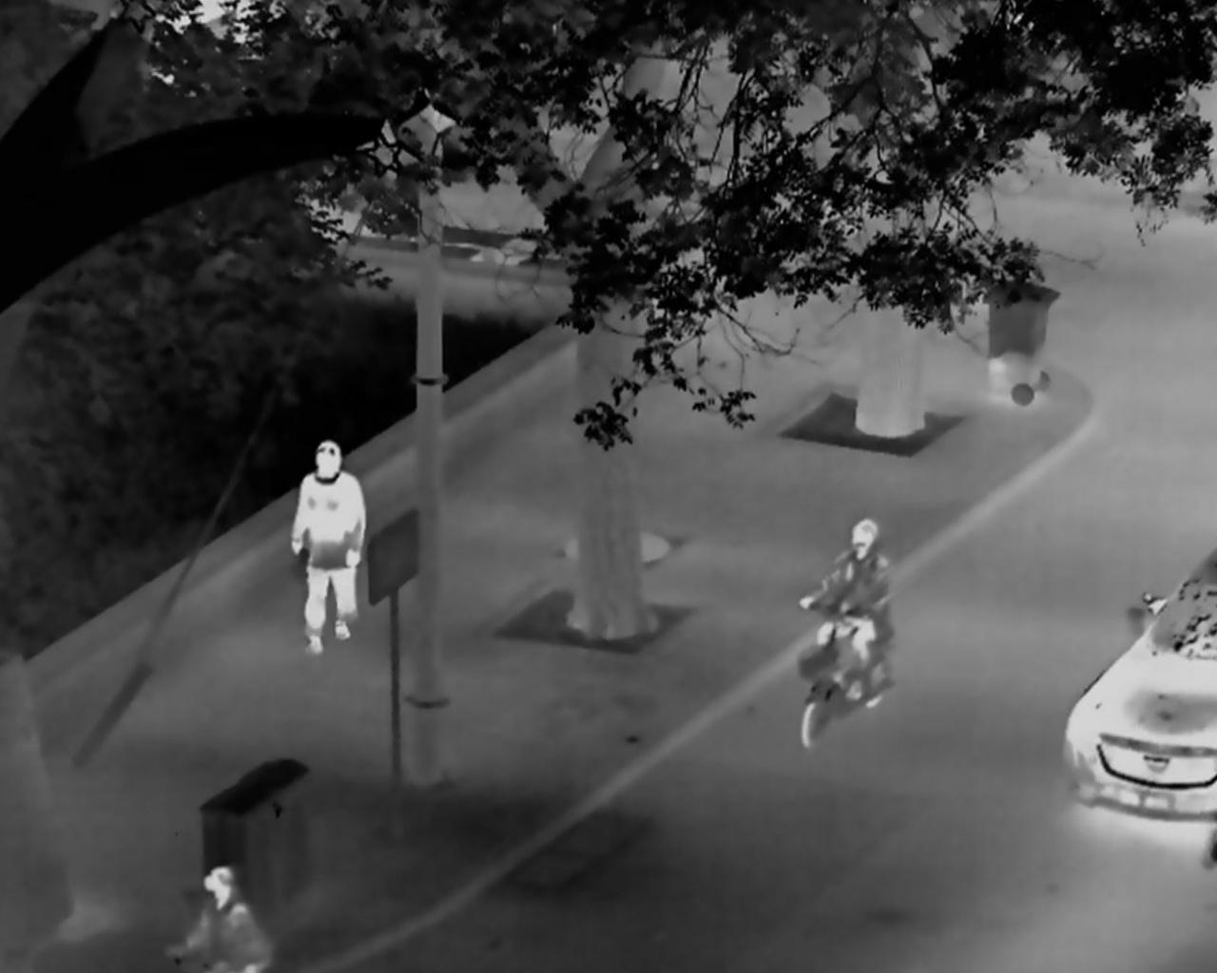person: (801, 519, 896, 701), (289, 439, 366, 655), (165, 865, 270, 973)
